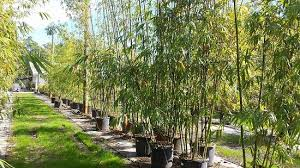bamboo: (138, 2, 232, 135), (235, 2, 299, 168), (61, 38, 129, 107), (85, 1, 130, 35)
